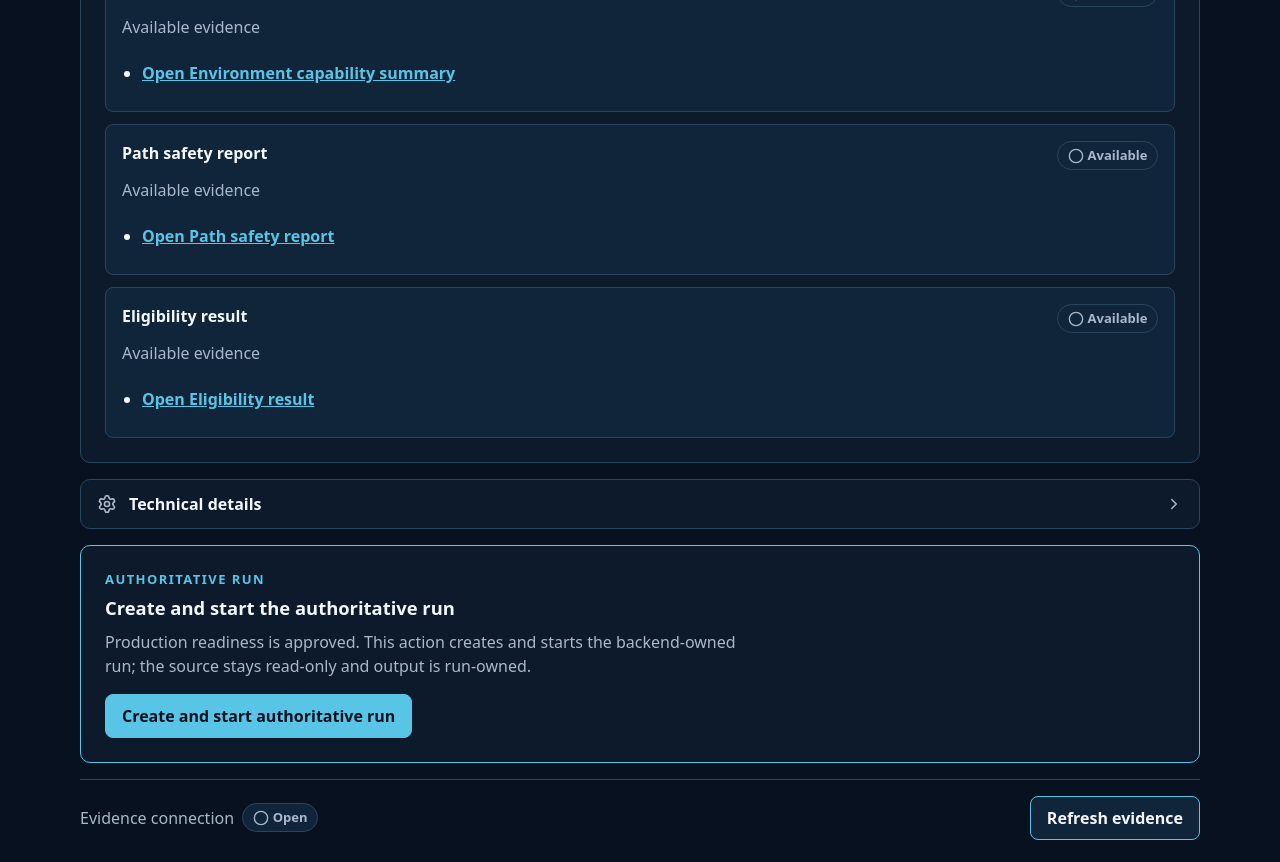
Test: G01ReviewPanel › invalidates stale approved controls immediately when run creation is clicked after expiry
(page scrolled)
Step 1. Click the button "Create and start authoritative run" → coordinates (259, 716), box left=105, top=694, right=412, bottom=738
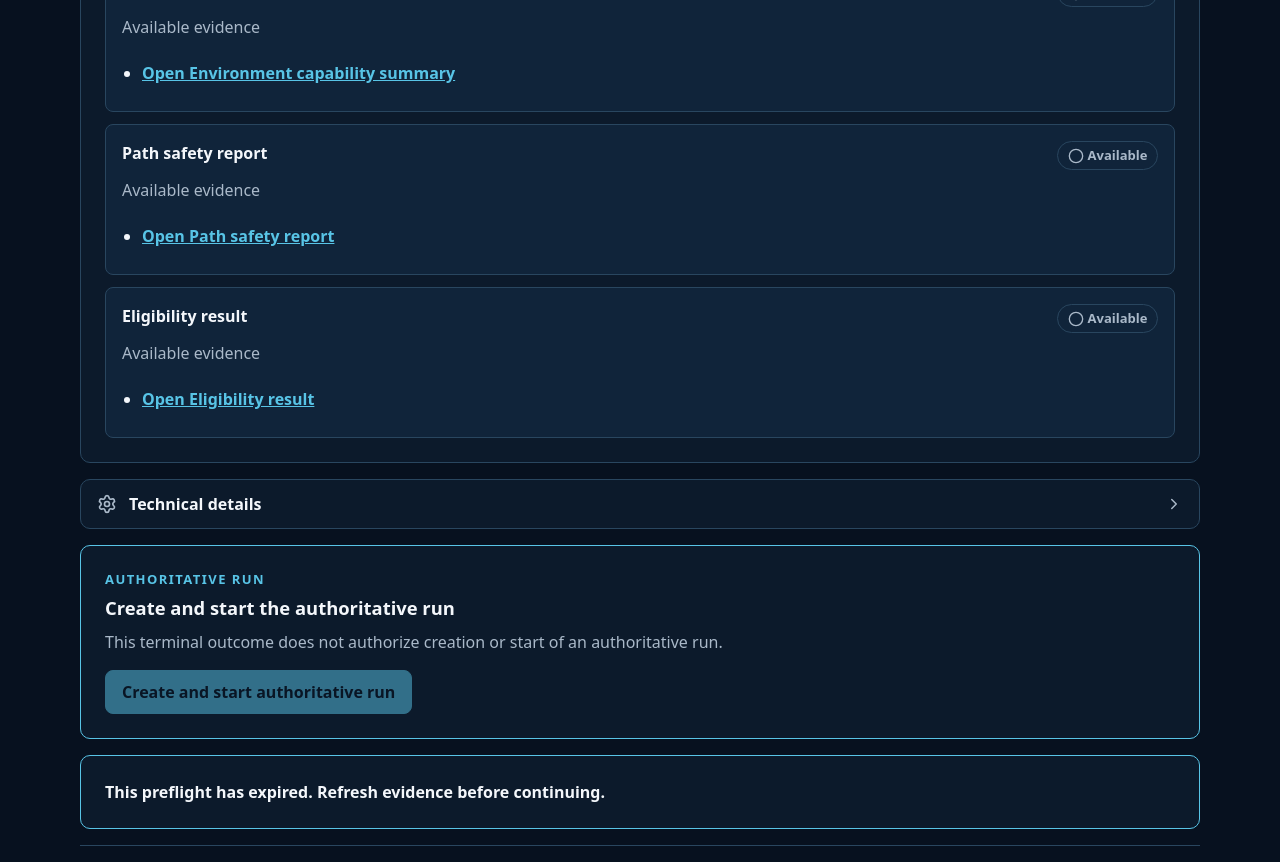
Check: the button "Create and start authoritative run" is disabled, box left=105, top=670, right=412, bottom=714
